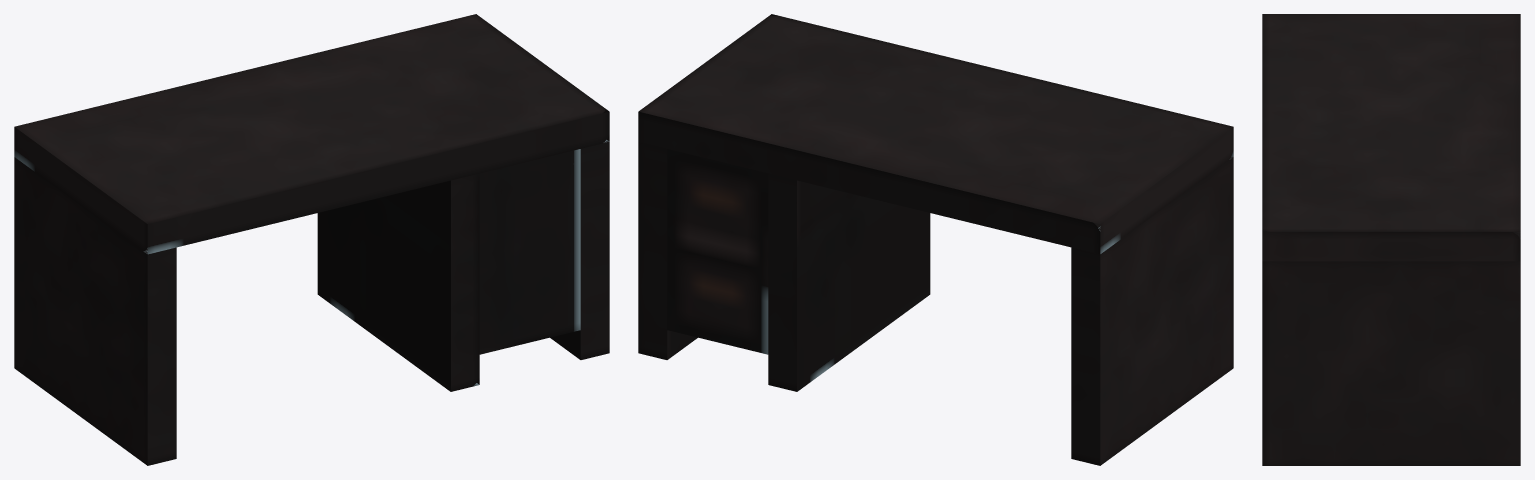
File: office_desk.obj
3 views of the same model, side by side, from view 1: azimuth 30°, elevation 25°; view 2: azimuth 150°, elevation 25°; view 3: azimuth 270°, elevation 25° (orthographic). The views are drawn at different scales.
Parts seen in each view (by area): view 1: cube, top; view 2: cube, top; view 3: top, cube.
Part boxes in pixels (left/top/right/bottom): cube: left=14, top=140, right=609, bottom=465; top: left=14, top=14, right=609, bottom=254; cube: left=638, top=142, right=1233, bottom=465; top: left=638, top=14, right=1233, bottom=254; top: left=1262, top=14, right=1520, bottom=261; cube: left=1262, top=229, right=1520, bottom=465.
Bounding box in the file's own units: 2 × 1 × 1.
